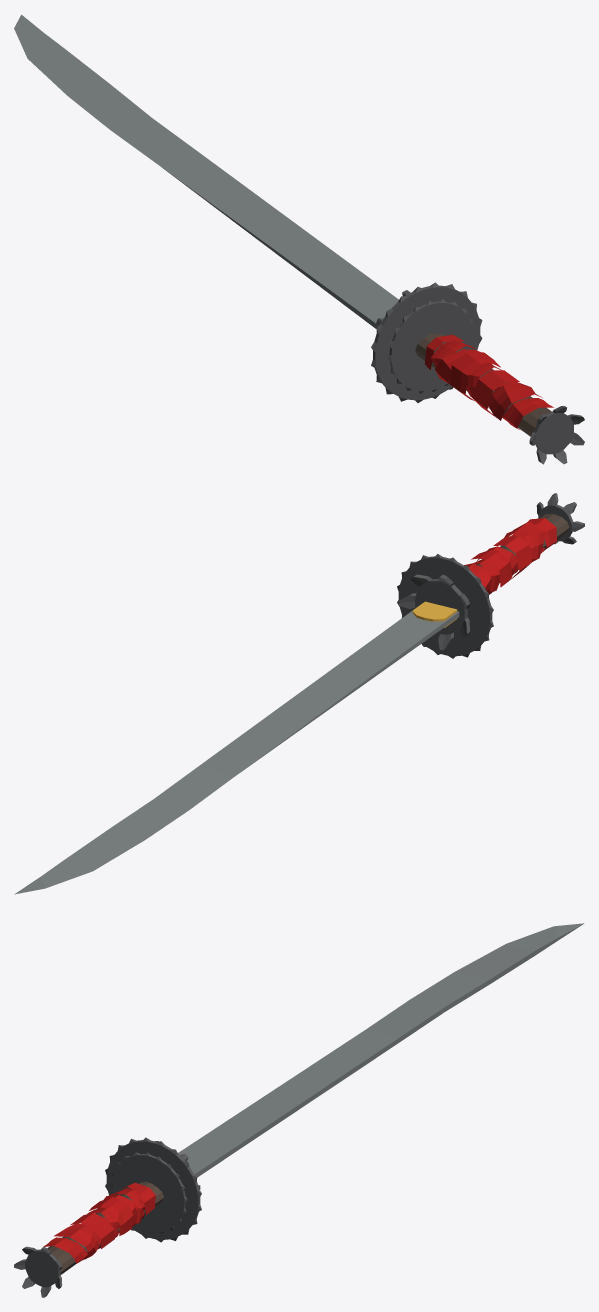
Rendered from Katana.glb.
3 views of the same model, one above another, from view 1: azimuth 30°, elevation 25°; view 2: azimuth 150°, elevation 25°; view 3: azimuth 330°, elevation 25° (orthographic). The views are drawn at different scales.
Parts seen in each view (by area): view 1: Katana; view 2: Katana; view 3: Katana.
Boxes of the visible parts, left/top/right/bottom form: Katana: left=14, top=14, right=584, bottom=464; Katana: left=14, top=493, right=584, bottom=894; Katana: left=14, top=923, right=584, bottom=1297.
Size of the model in its own units: 0.1889 by 0.1889 by 1.71.
Materials: 1 (1 with a texture image).
